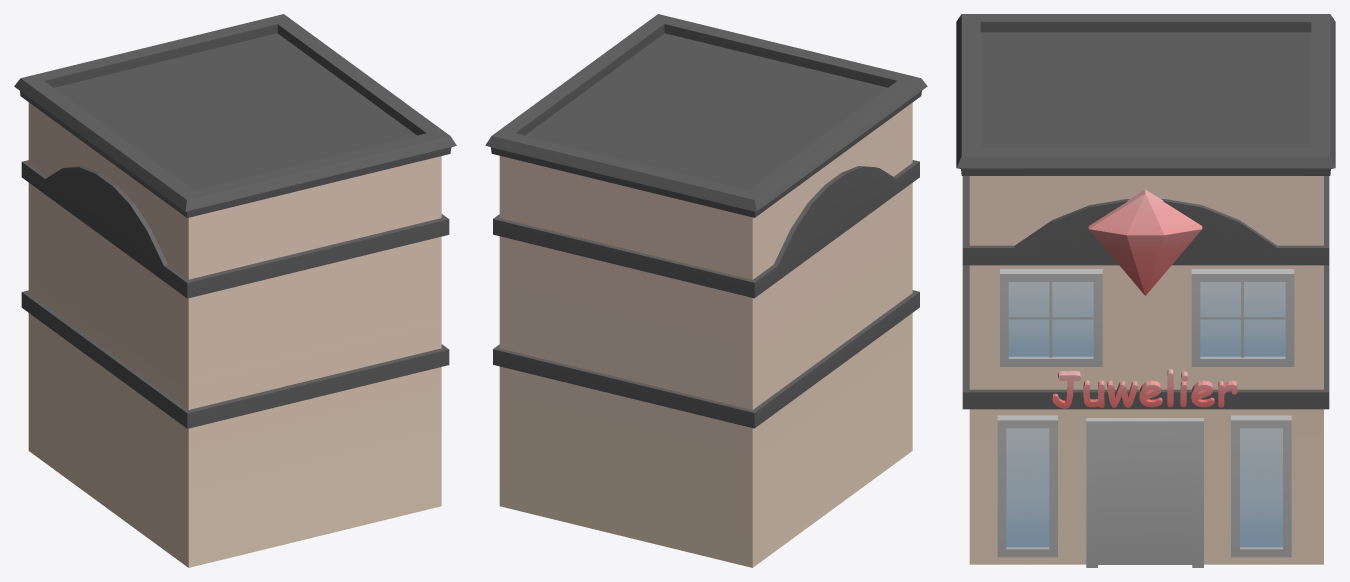
Rendered from Gebeude_9.glb.
3 views of the same model, side by side, from view 1: azimuth 30°, elevation 25°; view 2: azimuth 150°, elevation 25°; view 3: azimuth 270°, elevation 25° (orthographic). The views are drawn at different scales.
Parts seen in each view (by area): view 1: Cube.019; view 2: Cube.019; view 3: Cube.019.
Boxes of the visible parts, bbox=[...] form: Cube.019: bbox=[14, 14, 456, 567]; Cube.019: bbox=[485, 14, 927, 567]; Cube.019: bbox=[956, 14, 1335, 567].
Bounding box in the file's own units: 6.4 × 8 × 6.69.
Materials: 1 (1 with a texture image).
